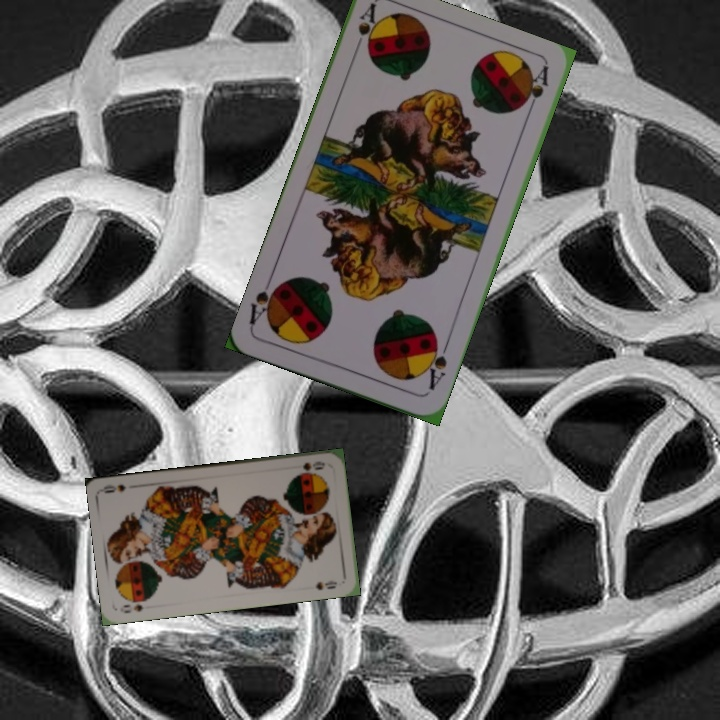SA: (420, 335, 452, 393), (348, 1, 381, 57)
SO: (119, 596, 149, 616), (299, 457, 327, 474)
